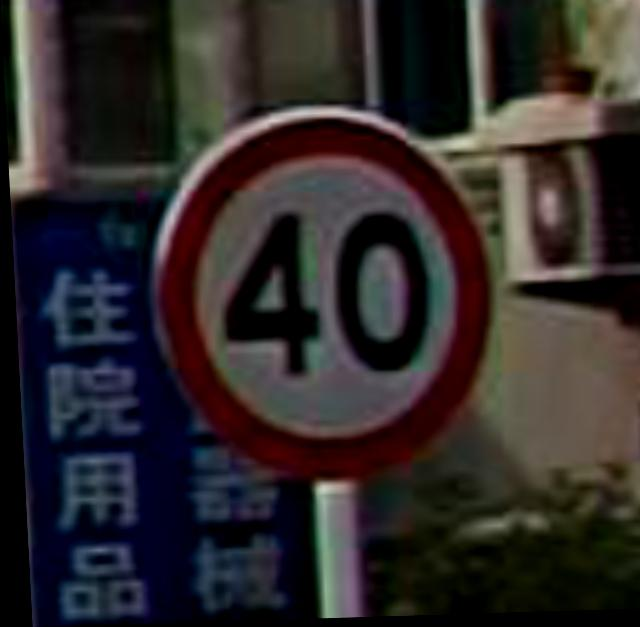limit40: (141, 96, 507, 489)
